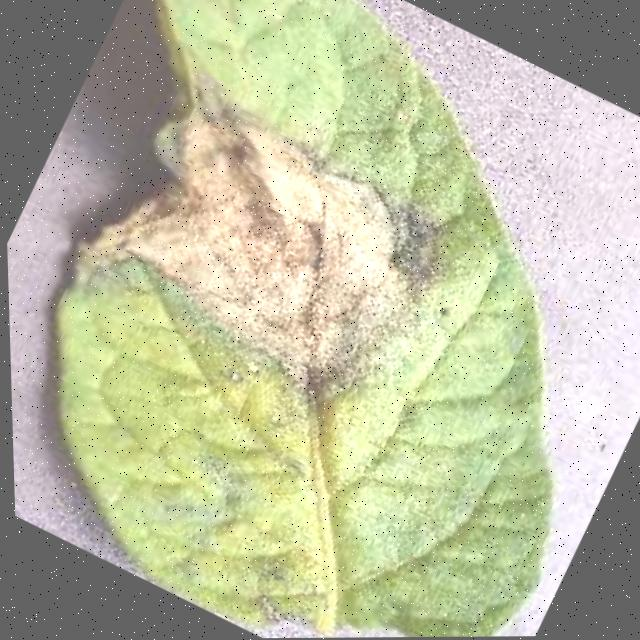Late_blight: (34, 31, 539, 470)
